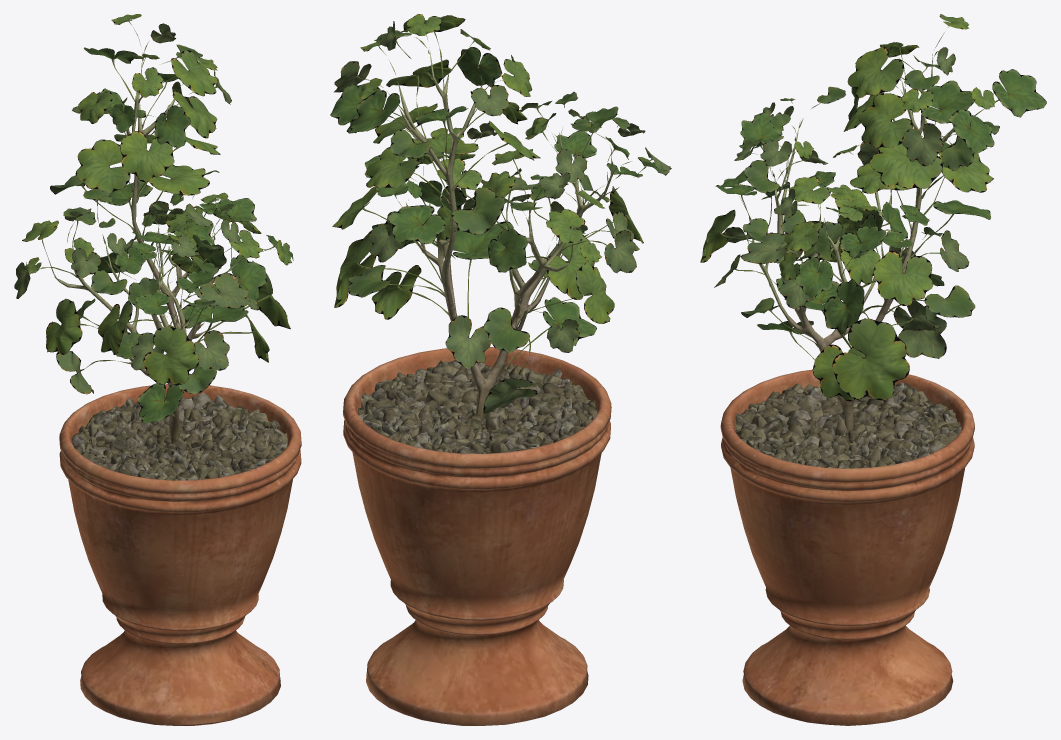
File: potted_plant_01.glb
3 views of the same model, side by side, from view 1: azimuth 30°, elevation 25°; view 2: azimuth 150°, elevation 25°; view 3: azimuth 270°, elevation 25° (orthographic). The views are drawn at different scales.
Visible parts, largest first — view 1: potted_plant_01_pot, potted_plant_01_leaves, potted_plant_01_pebbles, potted_plant_01_stem; view 2: potted_plant_01_pot, potted_plant_01_leaves, potted_plant_01_pebbles, potted_plant_01_stem; view 3: potted_plant_01_pot, potted_plant_01_leaves, potted_plant_01_pebbles, potted_plant_01_stem.
Boxes of the visible parts, left/top/right/bottom form: potted_plant_01_pot: left=59, top=384, right=301, bottom=725; potted_plant_01_leaves: left=14, top=14, right=293, bottom=423; potted_plant_01_pebbles: left=71, top=392, right=287, bottom=480; potted_plant_01_stem: left=54, top=56, right=244, bottom=443; potted_plant_01_pot: left=343, top=347, right=611, bottom=725; potted_plant_01_leaves: left=330, top=14, right=671, bottom=414; potted_plant_01_pebbles: left=358, top=360, right=597, bottom=453; potted_plant_01_stem: left=397, top=49, right=612, bottom=420; potted_plant_01_pot: left=720, top=369, right=974, bottom=725; potted_plant_01_leaves: left=700, top=14, right=1046, bottom=401; potted_plant_01_pebbles: left=735, top=382, right=961, bottom=468; potted_plant_01_stem: left=752, top=57, right=954, bottom=431.
Size of the model in its own units: 0.5871 by 1.34 by 0.6336.
2 materials, 2 textured.
